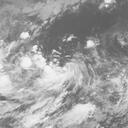cyclone: (40, 61, 86, 105)
